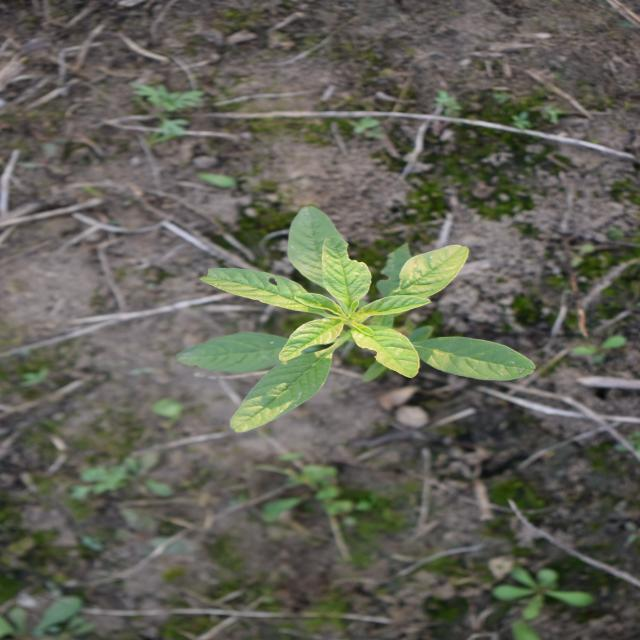Waterhemp: (173, 205, 540, 436)
